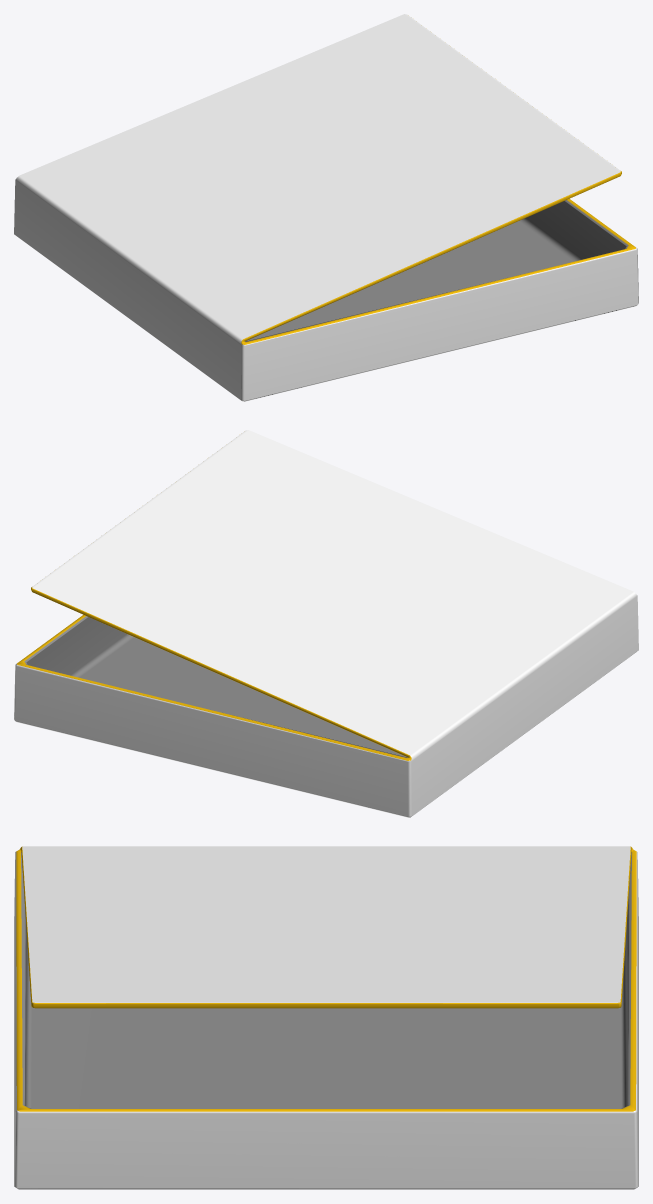
File: cartone.fbx
3 renders of one model, top to bottom at view 1: azimuth 30°, elevation 25°; view 2: azimuth 150°, elevation 25°; view 3: azimuth 270°, elevation 25°, orthographic. The views are drawn at different scales.
Parts seen in each view (by area): view 1: pCube2; view 2: pCube2; view 3: pCube2.
Part boxes in pixels (x1,y1,x2,y2): pCube2: (14,14,638,401); pCube2: (14,430,638,817); pCube2: (14,846,638,1189).
Bounding box in the file's own units: 23.25 × 7.4 × 23.25.
